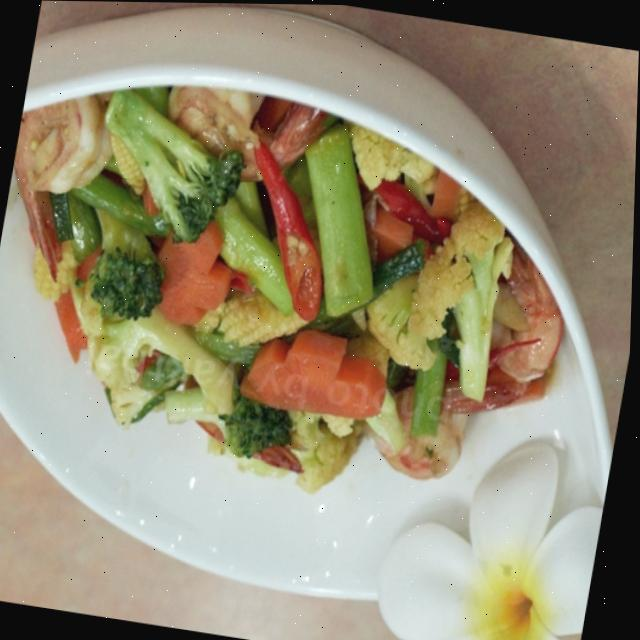蔬菜料理: (0, 22, 639, 620)
